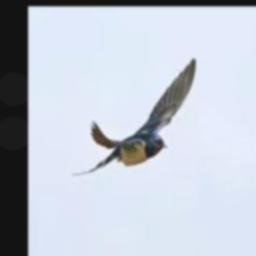Swallow: (72, 56, 197, 178)
